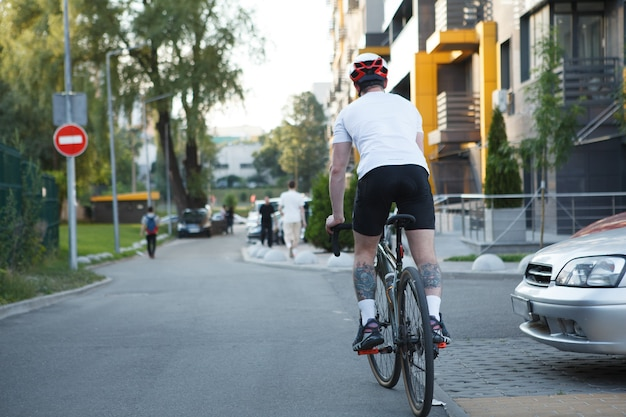helmet: (347, 53, 389, 92)
